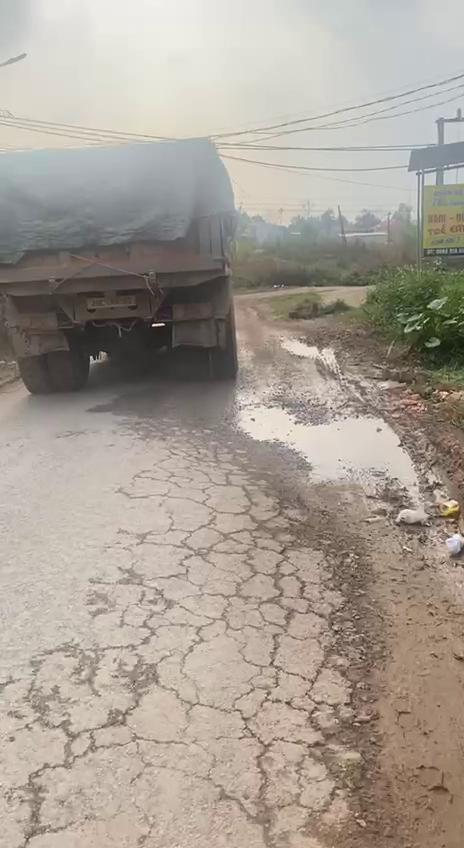pothole: (236, 398, 404, 483)
